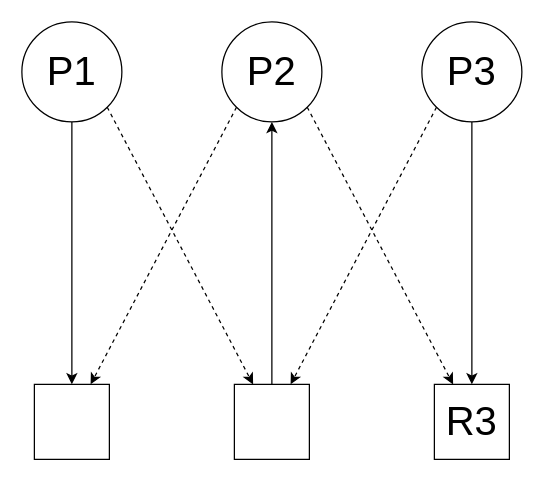
Some shapes in this 544 by 481 pixel diagram are drawn without their labels. The shapes that lost their labels are listed below. From the top down, each one's centre as x and y in pixels, then its label:
[71,421]: R1
[271,421]: R2
